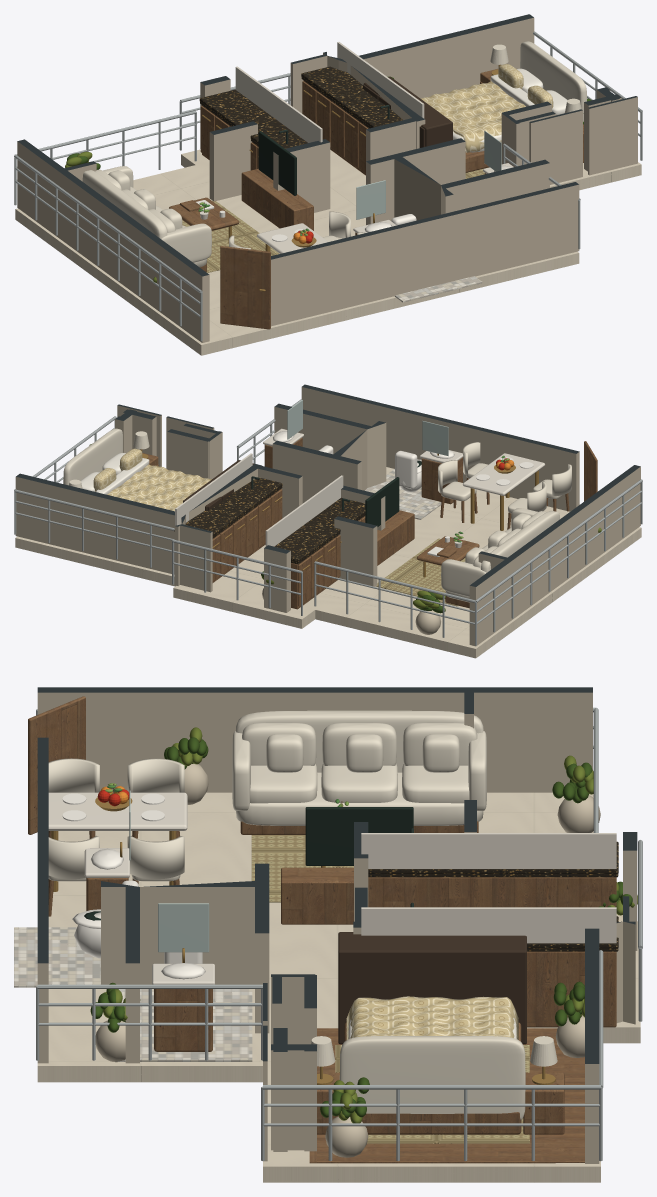
The picture shows the model from 3 angles, top to bottom: view 1: azimuth 30°, elevation 25°; view 2: azimuth 150°, elevation 25°; view 3: azimuth 270°, elevation 25°; orthographic projection. The views are drawn at different scales.
Parts seen in each view (by area): view 1: Source-traced internal and perimeter walls • Wall, Continuous apartment foundation, Oak entrance door, Soft jacquard duvet with folds, Walnut media console, Deep green kitchen stone.001, Deep green kitchen stone, Backsplash, Padded headboard, Sofa back, Television, Living patterned carpet (+18 smaller); view 2: Source-traced internal and perimeter walls • Wall, Continuous apartment foundation, Soft jacquard duvet with folds, Deep green kitchen stone, Deep green kitchen stone.001, Backsplash, Living patterned carpet, Padded headboard, Dining top, Walnut media console, Backsplash.001, Sofa back (+32 smaller); view 3: Source-traced internal and perimeter walls • Wall, Continuous apartment foundation, Fitted dark wardrobe, Padded headboard, Backsplash, Full bedroom wood flooring, Backsplash.001, Base cabinets, Soft jacquard duvet with folds, Base cabinets.001, Television, Walnut media console (+46 smaller).
Boxes of the visible parts, <box> form: Source-traced internal and perimeter walls • Wall: <box>17,14,637,342</box>; Continuous apartment foundation: <box>15,149,641,355</box>; Oak entrance door: <box>220,246,270,329</box>; Soft jacquard duvet with folds: <box>420,81,525,152</box>; Walnut media console: <box>241,168,313,230</box>; Deep green kitchen stone.001: <box>301,66,402,127</box>; Deep green kitchen stone: <box>199,89,307,148</box>; Backsplash: <box>235,66,322,142</box>; Padded headboard: <box>520,41,586,121</box>; Sofa back: <box>82,170,167,238</box>; Television: <box>258,131,296,195</box>; Living patterned carpet: <box>182,201,279,272</box>; Source-traced internal and perimeter walls • Wall: <box>15,384,640,646</box>; Continuous apartment foundation: <box>15,467,641,658</box>; Soft jacquard duvet with folds: <box>107,464,211,511</box>; Deep green kitchen stone: <box>274,497,365,562</box>; Deep green kitchen stone.001: <box>174,477,282,536</box>; Backsplash: <box>265,475,343,546</box>; Living patterned carpet: <box>375,538,465,606</box>; Padded headboard: <box>63,428,122,485</box>; Dining top: <box>463,453,544,495</box>; Walnut media console: <box>377,510,414,565</box>; Backsplash.001: <box>175,453,252,525</box>; Sofa back: <box>480,511,559,572</box>; Source-traced internal and perimeter walls • Wall: <box>37,687,637,1163</box>; Continuous apartment foundation: <box>37,792,640,1182</box>; Fitted dark wardrobe: <box>338,932,526,1044</box>; Padded headboard: <box>339,1036,525,1120</box>; Backsplash: <box>361,833,616,868</box>; Full bedroom wood flooring: <box>317,1028,584,1162</box>; Backsplash.001: <box>361,907,616,943</box>; Base cabinets: <box>368,877,616,907</box>; Soft jacquard duvet with folds: <box>346,996,518,1039</box>; Base cabinets.001: <box>527,951,616,1027</box>; Television: <box>305,807,413,865</box>; Walnut media console: <box>281,867,353,924</box>.
Bounding box in the file's own units: 9.14 × 1.7 × 6.39.
25 materials, 6 textured.
